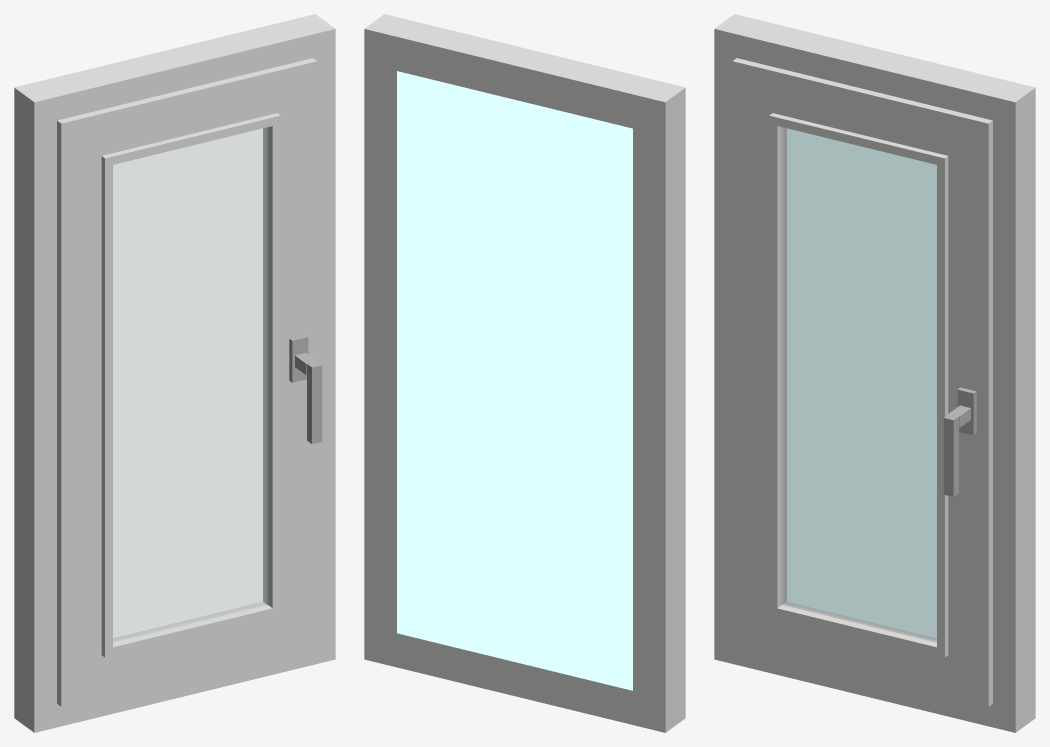
The model's file is oscilobatiente_600x1200.glb.
3 views of the same model, side by side, from view 1: azimuth 30°, elevation 25°; view 2: azimuth 150°, elevation 25°; view 3: azimuth 330°, elevation 25° (orthographic).
Visible parts, largest first — view 1: Ventana oscilobatiente PVC 60 x 120 cm; view 2: Ventana oscilobatiente PVC 60 x 120 cm; view 3: Ventana oscilobatiente PVC 60 x 120 cm.
Boxes of the visible parts, bbox=[...] form: Ventana oscilobatiente PVC 60 x 120 cm: bbox=[14, 14, 335, 732]; Ventana oscilobatiente PVC 60 x 120 cm: bbox=[364, 14, 685, 732]; Ventana oscilobatiente PVC 60 x 120 cm: bbox=[714, 14, 1035, 732].
Size of the model in its own units: 0.6 by 1.2 by 0.153.
